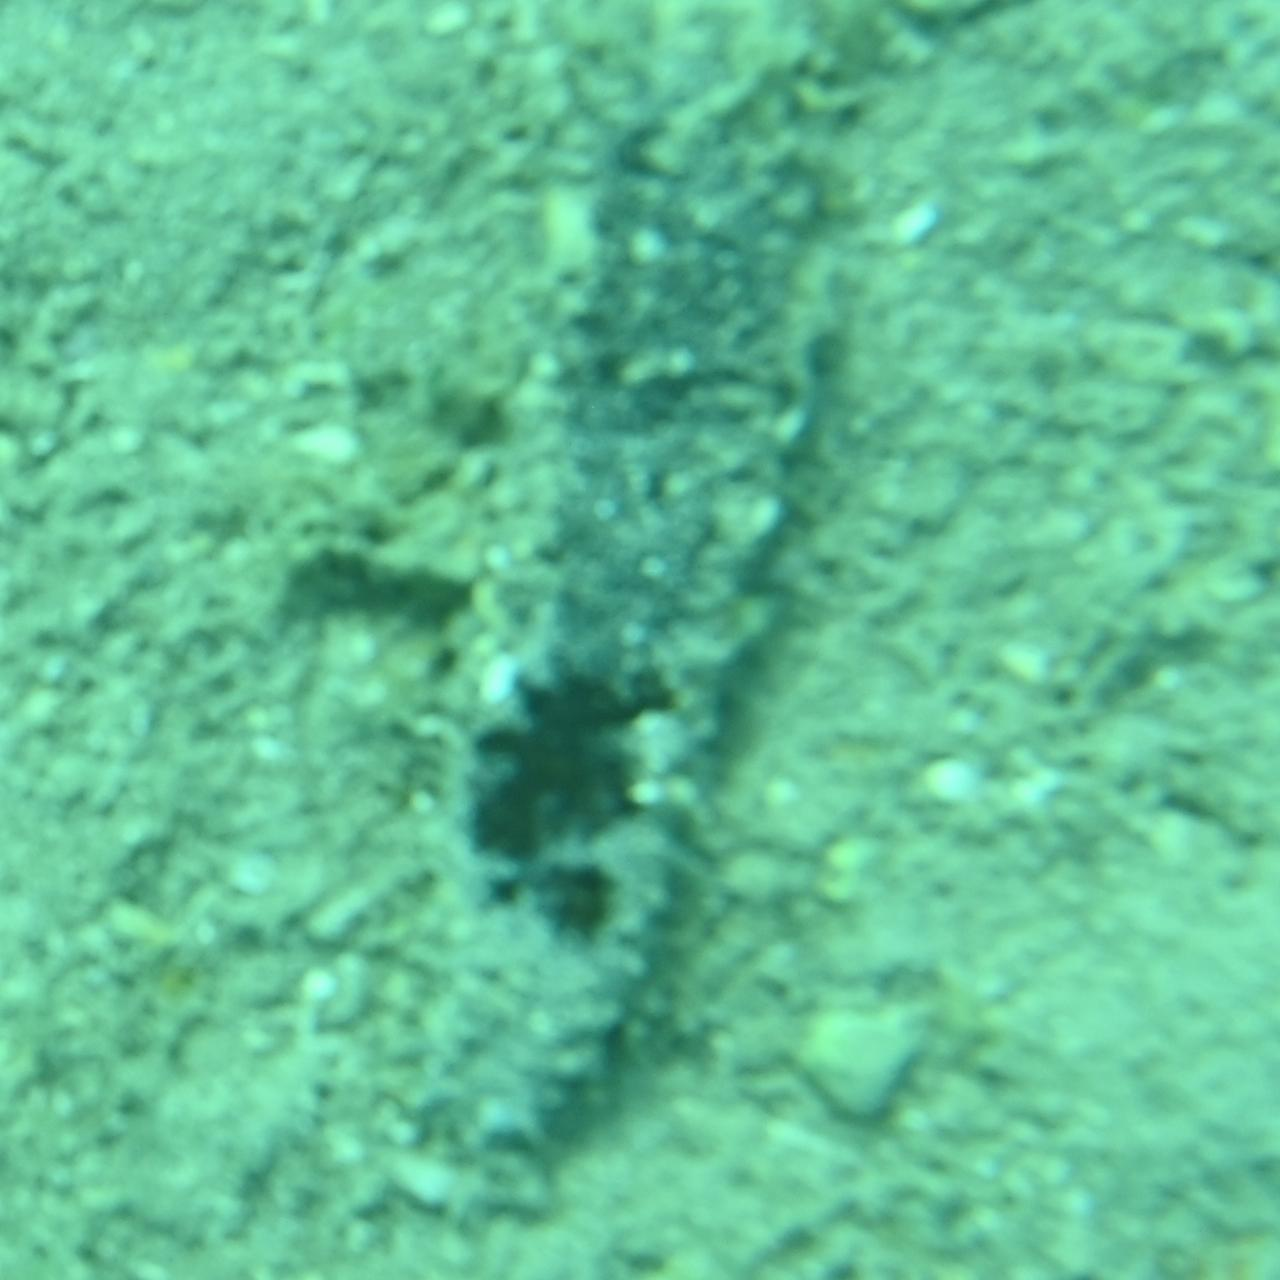Holothuria tubulosa: (423, 80, 857, 1200)
